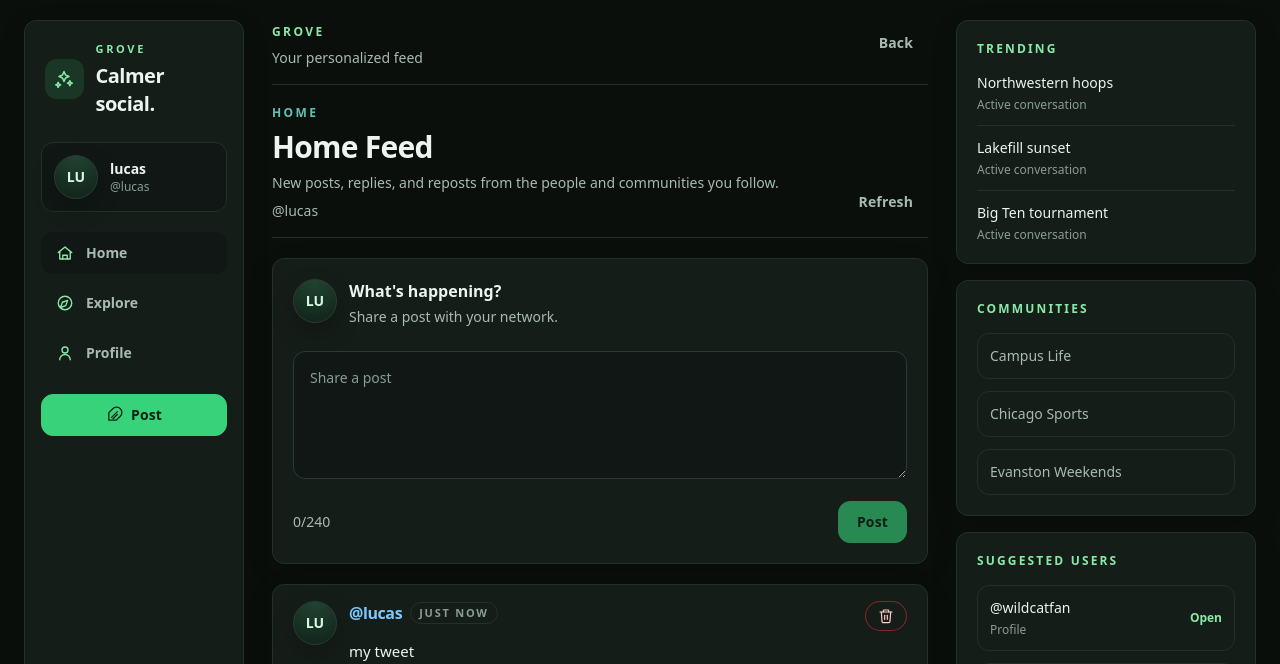
HomeFeedPage › shows delete for own tweets and removes tweet on success
Expected: the text "my tweet" is shown, x1=349 y1=641 x2=414 y2=661
Click the button named "delete". click: [886, 616]
box: x1=865 y1=601 x2=907 y2=631
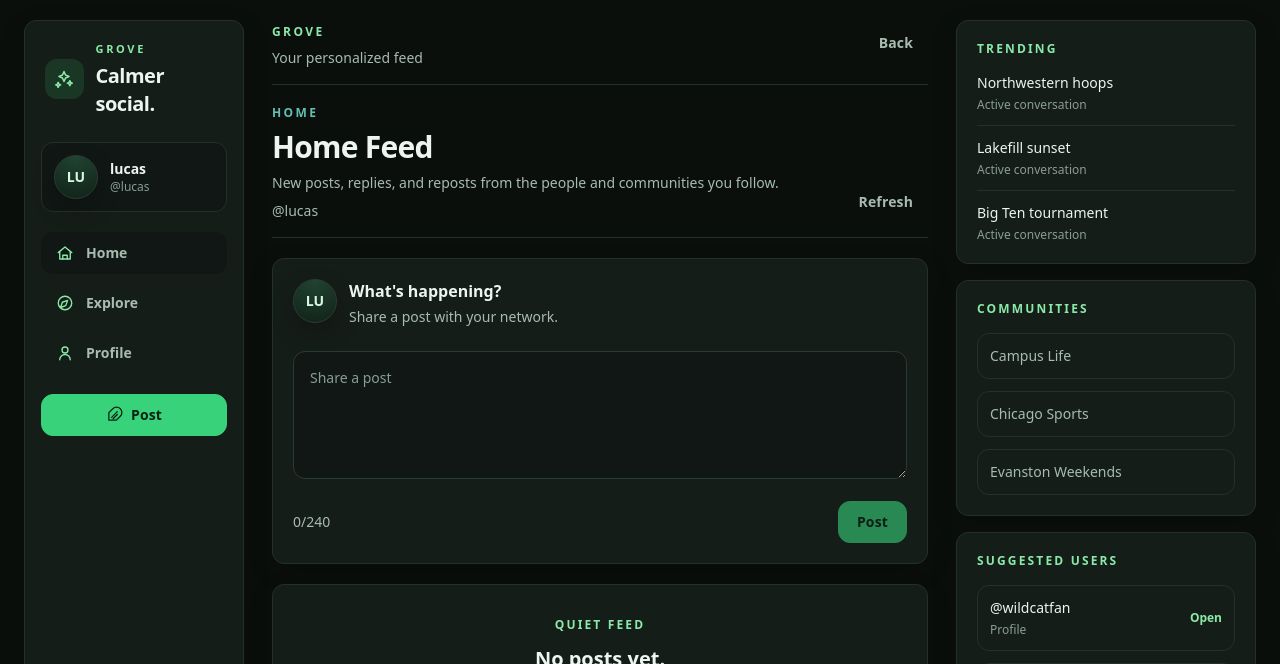
Expected: the text "my tweet" is gone
